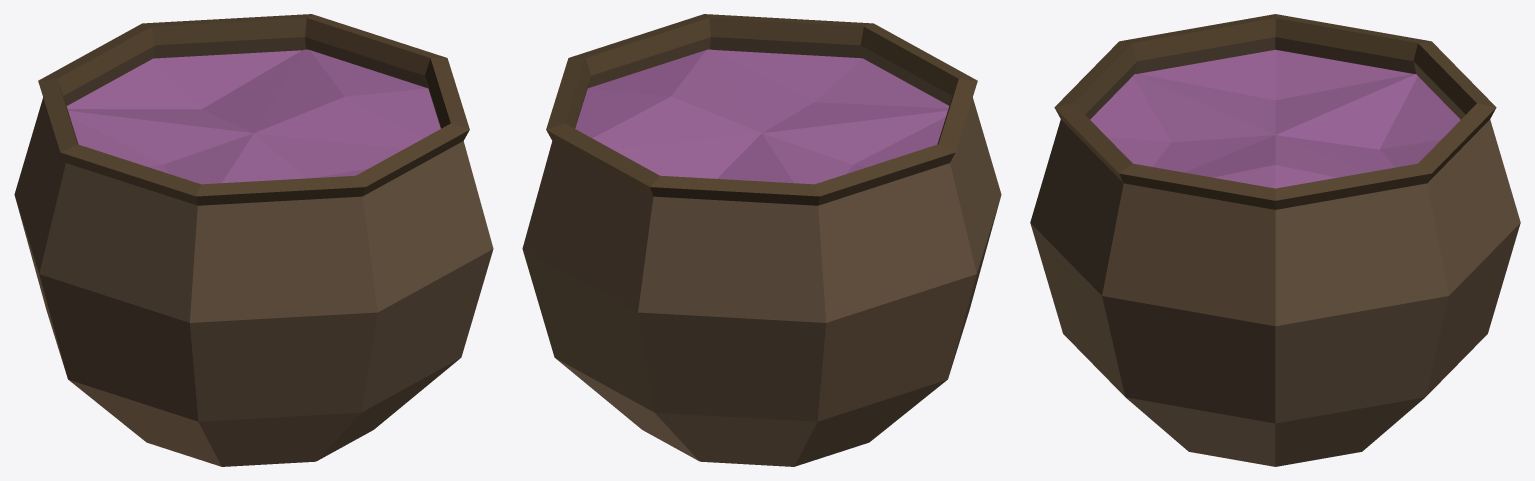
Rendered from Cauldron_1_Brown.fbx.
3 renders of one model, left to right at view 1: azimuth 30°, elevation 25°; view 2: azimuth 150°, elevation 25°; view 3: azimuth 270°, elevation 25°, orthographic.
Parts seen in each view (by area): view 1: Cauldron_1_Brown_Part_1, Cauldron_1_Brown_Part_3, Cauldron_1_Brown_Part_2; view 2: Cauldron_1_Brown_Part_1, Cauldron_1_Brown_Part_3, Cauldron_1_Brown_Part_2; view 3: Cauldron_1_Brown_Part_1, Cauldron_1_Brown_Part_3, Cauldron_1_Brown_Part_2.
Boxes of the visible parts, box(x1,y1,x2,y2) form: Cauldron_1_Brown_Part_1: box(14, 37, 493, 466); Cauldron_1_Brown_Part_3: box(66, 49, 440, 184); Cauldron_1_Brown_Part_2: box(38, 14, 469, 205); Cauldron_1_Brown_Part_1: box(522, 37, 1001, 466); Cauldron_1_Brown_Part_3: box(575, 49, 949, 184); Cauldron_1_Brown_Part_2: box(546, 14, 977, 205); Cauldron_1_Brown_Part_1: box(1030, 37, 1520, 466); Cauldron_1_Brown_Part_3: box(1090, 49, 1460, 188); Cauldron_1_Brown_Part_2: box(1054, 14, 1496, 209).
Size of the model in its own units: 100 by 70.12 by 100.
